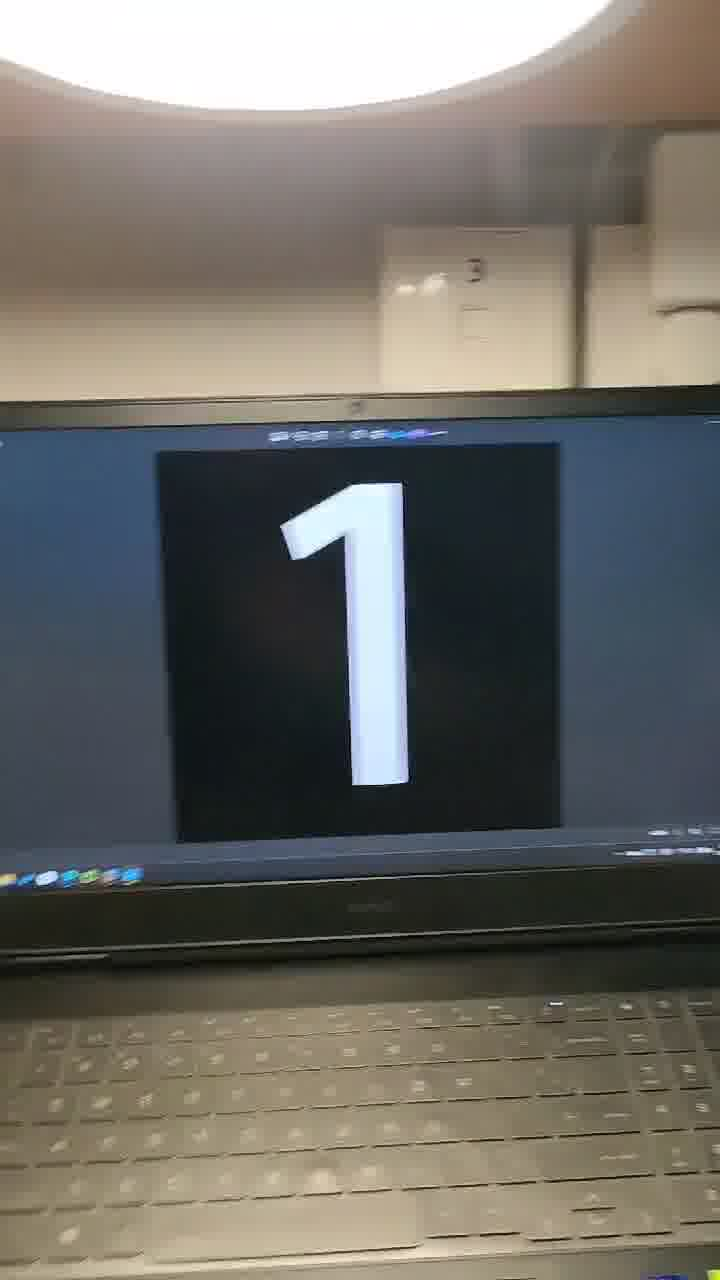one: (263, 455, 489, 796)
